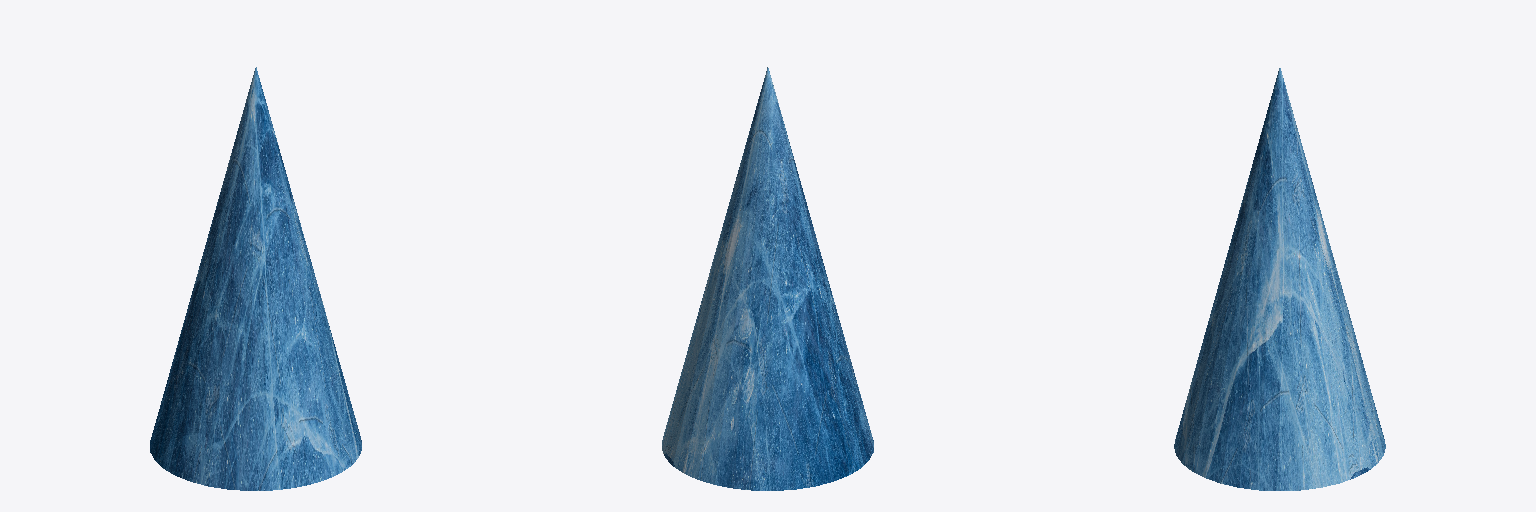
3 views of the same model, side by side, from view 1: azimuth 30°, elevation 25°; view 2: azimuth 150°, elevation 25°; view 3: azimuth 270°, elevation 25° (orthographic).
Parts seen in each view (by area): view 1: Cono.013; view 2: Cono.013; view 3: Cono.013.
Part boxes in pixels (bbox=[...]): Cono.013: bbox=[150, 67, 361, 490]; Cono.013: bbox=[662, 67, 873, 490]; Cono.013: bbox=[1174, 68, 1385, 490].
Bounding box in the file's own units: 4 × 7.86 × 3.97.
1 materials, 1 textured.